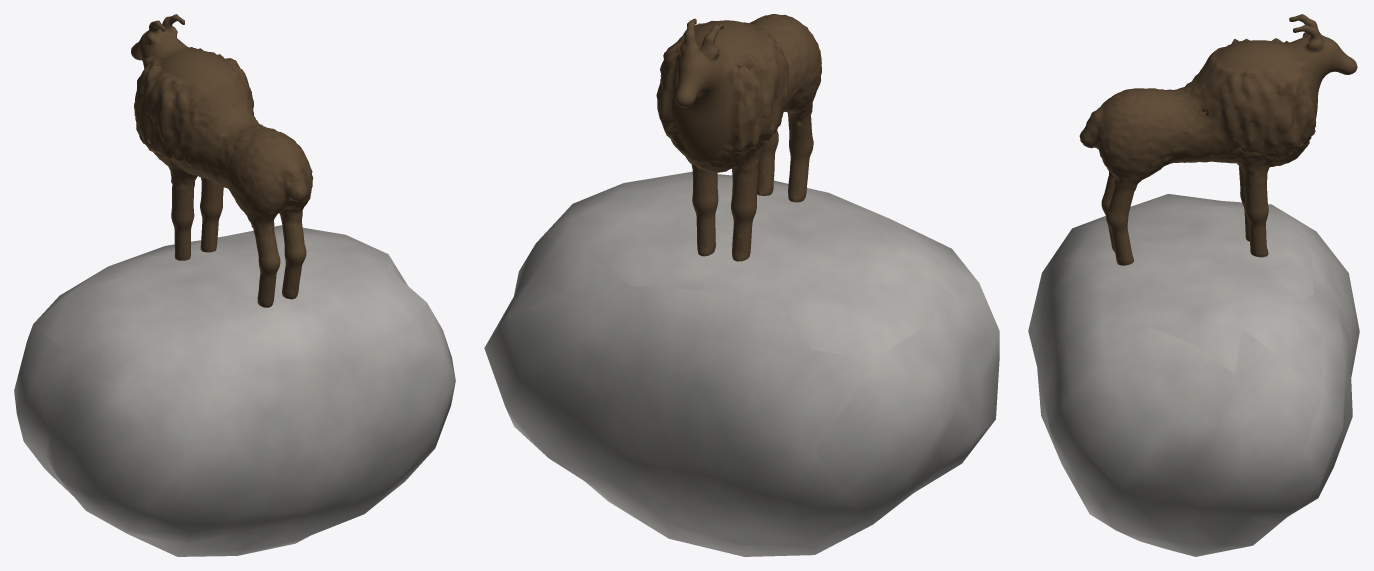
The model's file is pukaki-tahr-statue.glb.
3 views of the same model, side by side, from view 1: azimuth 30°, elevation 25°; view 2: azimuth 150°, elevation 25°; view 3: azimuth 270°, elevation 25° (orthographic). The views are drawn at different scales.
Visible parts, largest first — view 1: Pukaki_tahr; view 2: Pukaki_tahr; view 3: Pukaki_tahr.
Part boxes in pixels (left/top/right/bottom): Pukaki_tahr: left=14, top=14, right=455, bottom=556; Pukaki_tahr: left=484, top=14, right=999, bottom=556; Pukaki_tahr: left=1028, top=14, right=1359, bottom=556.
Bounding box in the file's own units: 2.43 × 3.03 × 1.79.
Materials: 2 (1 with a texture image).
